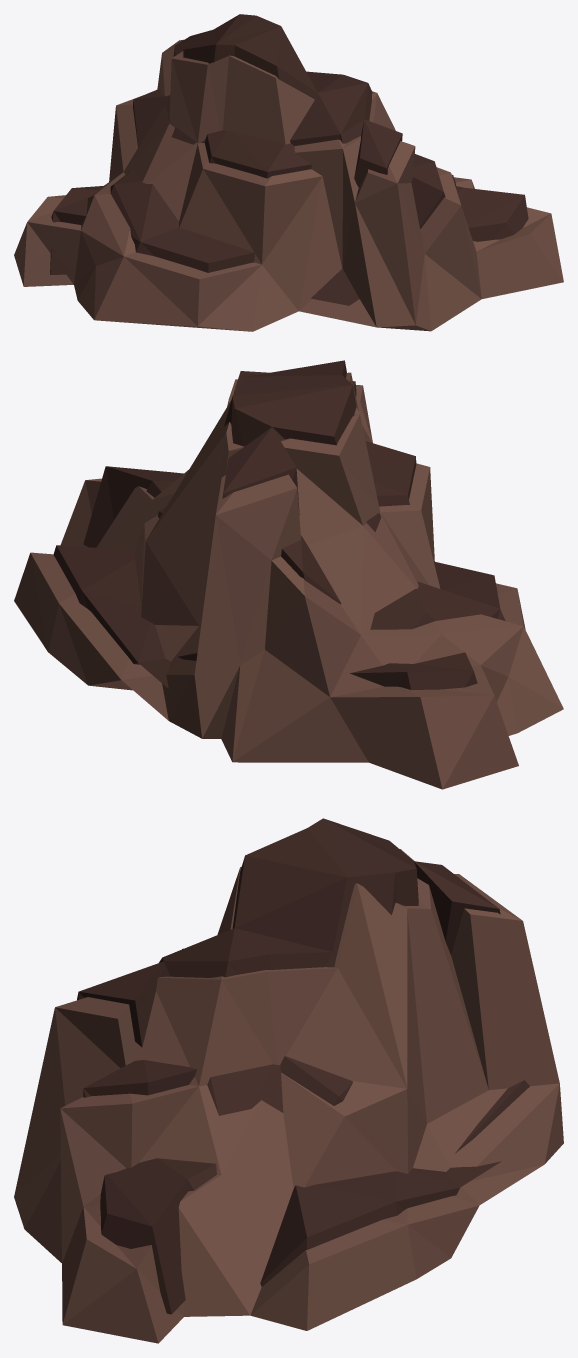
Rendered from Brown_rock_023.fbx.
3 renders of one model, top to bottom at view 1: azimuth 30°, elevation 25°; view 2: azimuth 150°, elevation 25°; view 3: azimuth 270°, elevation 25°, orthographic. The views are drawn at different scales.
Visible parts, largest first — view 1: Brown_rock_023; view 2: Brown_rock_023; view 3: Brown_rock_023.
Boxes of the visible parts, bbox=[...] form: Brown_rock_023: bbox=[14, 14, 563, 331]; Brown_rock_023: bbox=[14, 360, 563, 789]; Brown_rock_023: bbox=[14, 818, 563, 1343].
Size of the model in its own units: 1159 by 885 by 595.
